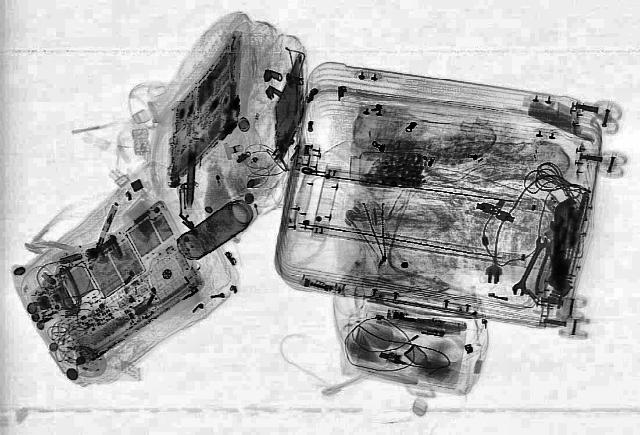Wrench: (509, 235, 551, 297)
